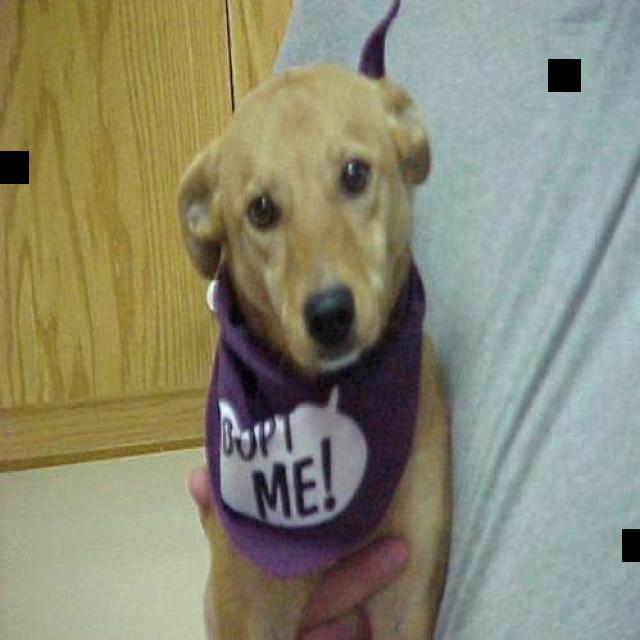puppy-dog: (177, 59, 453, 640)
